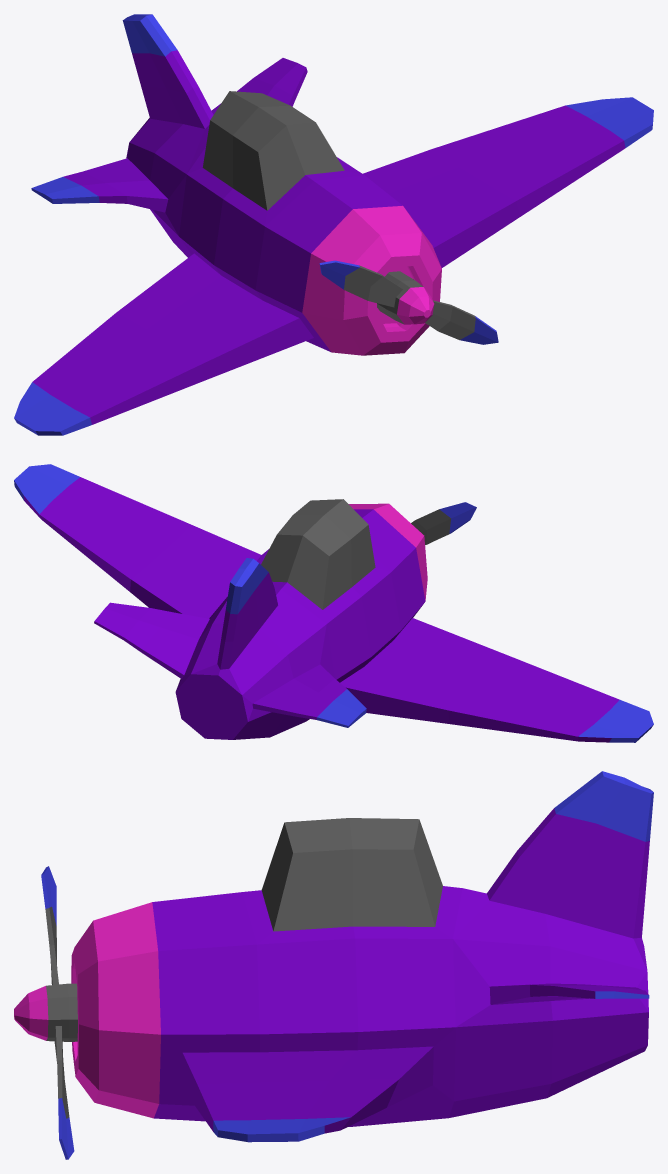
Rendered from Hababa.fbx.
The picture shows the model from 3 angles, top to bottom: view 1: azimuth 30°, elevation 25°; view 2: azimuth 150°, elevation 25°; view 3: azimuth 270°, elevation 25°; orthographic projection. The views are drawn at different scales.
Visible parts, largest first — view 1: Plane, Propellar; view 2: Plane, Propellar; view 3: Plane, Propellar.
Part boxes in pixels (x1,y1,x2,y2): Plane: (14,14,653,435); Propellar: (319,260,498,344); Plane: (14,464,653,742); Propellar: (411,502,476,544); Plane: (71,771,653,1142); Propellar: (14,866,77,1159).
Bounding box in the file's own units: 862 × 301 × 551.
